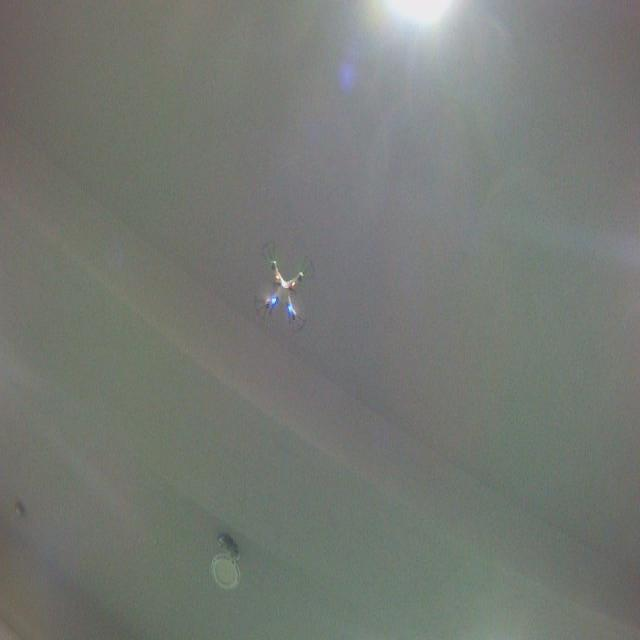drone: (251, 235, 319, 342)
